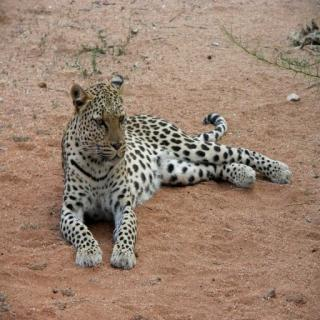Leopard: (46, 64, 304, 279)
